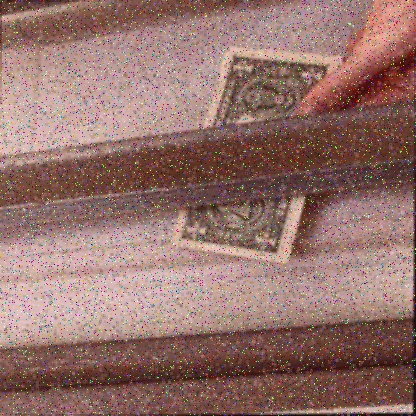one-back: (165, 47, 348, 264)
